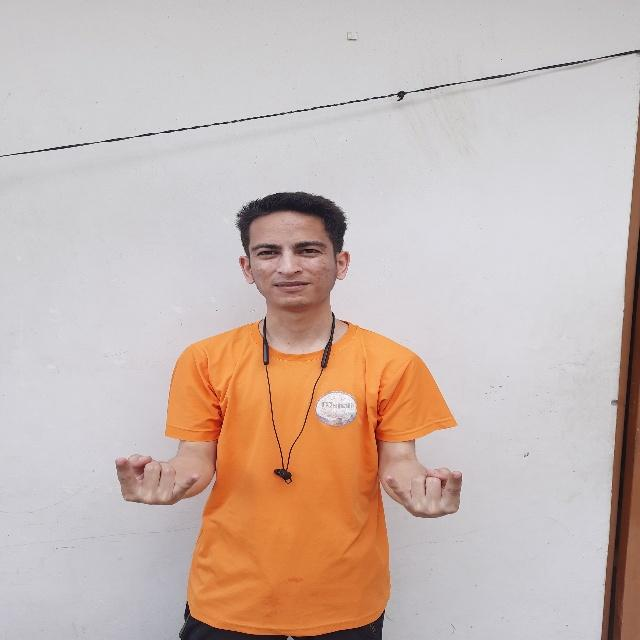Corna: (110, 443, 207, 521), (372, 455, 474, 526)
